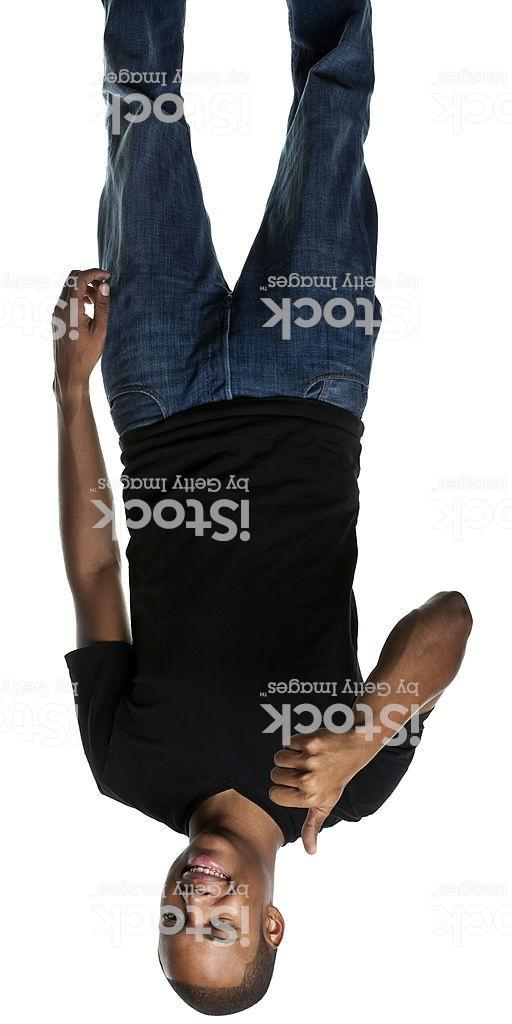thumbsdown: (268, 734, 333, 856)
